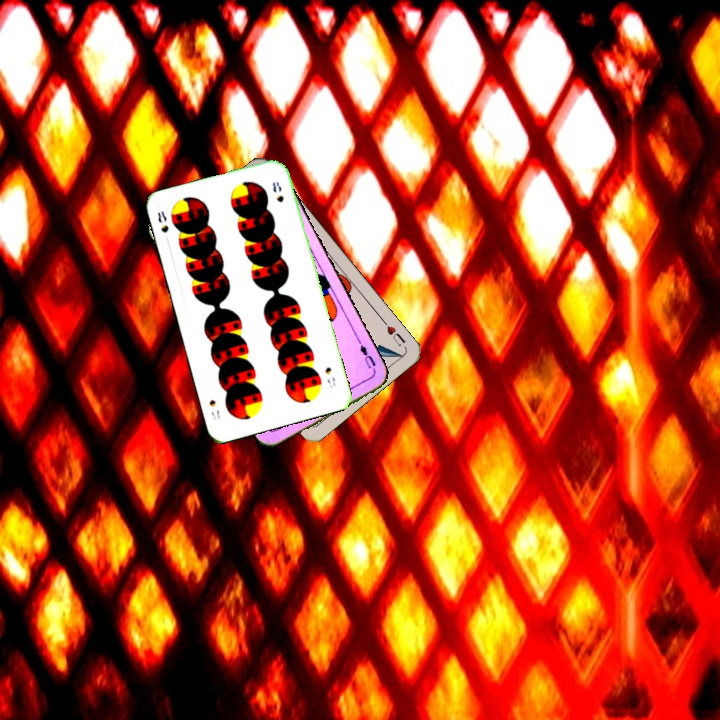EU: (355, 337, 378, 371)
HU: (378, 316, 408, 349)
S8: (153, 207, 171, 236), (321, 363, 338, 390)
